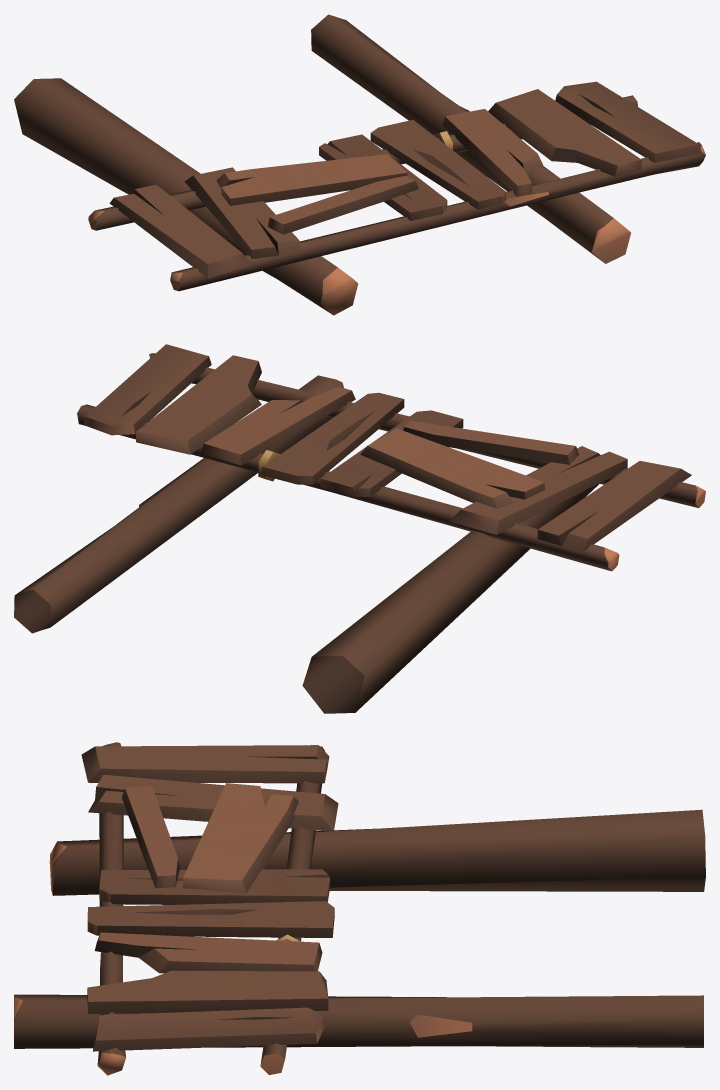
File: Suspended_Ramp_1A.fbx
The picture shows the model from 3 angles, top to bottom: view 1: azimuth 30°, elevation 25°; view 2: azimuth 150°, elevation 25°; view 3: azimuth 270°, elevation 25°; orthographic projection. The views are drawn at different scales.
Visible parts, largest first — view 1: Suspended_Ramp_1A; view 2: Suspended_Ramp_1A; view 3: Suspended_Ramp_1A.
Boxes of the visible parts, bbox=[...] form: Suspended_Ramp_1A: bbox=[14, 14, 705, 315]; Suspended_Ramp_1A: bbox=[14, 344, 705, 713]; Suspended_Ramp_1A: bbox=[14, 742, 705, 1075].
Size of the model in its own units: 6.01 by 0.911 by 5.61.
